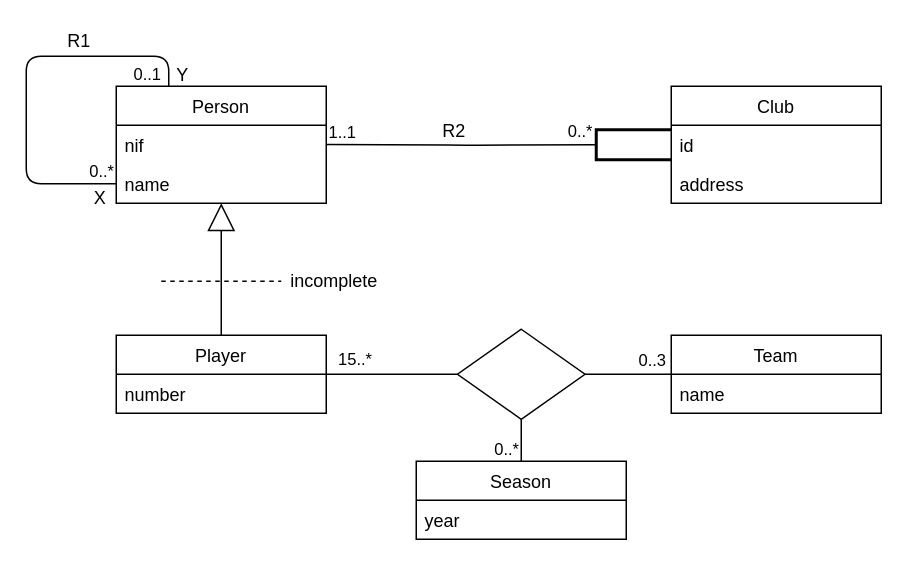
The diagram is 908 pixels wide and 569 high, and some of its shapes have lost their labels. Each missing label, with the centre of its shape:
nr: (x=633, y=144)
R3: (x=520, y=373)
